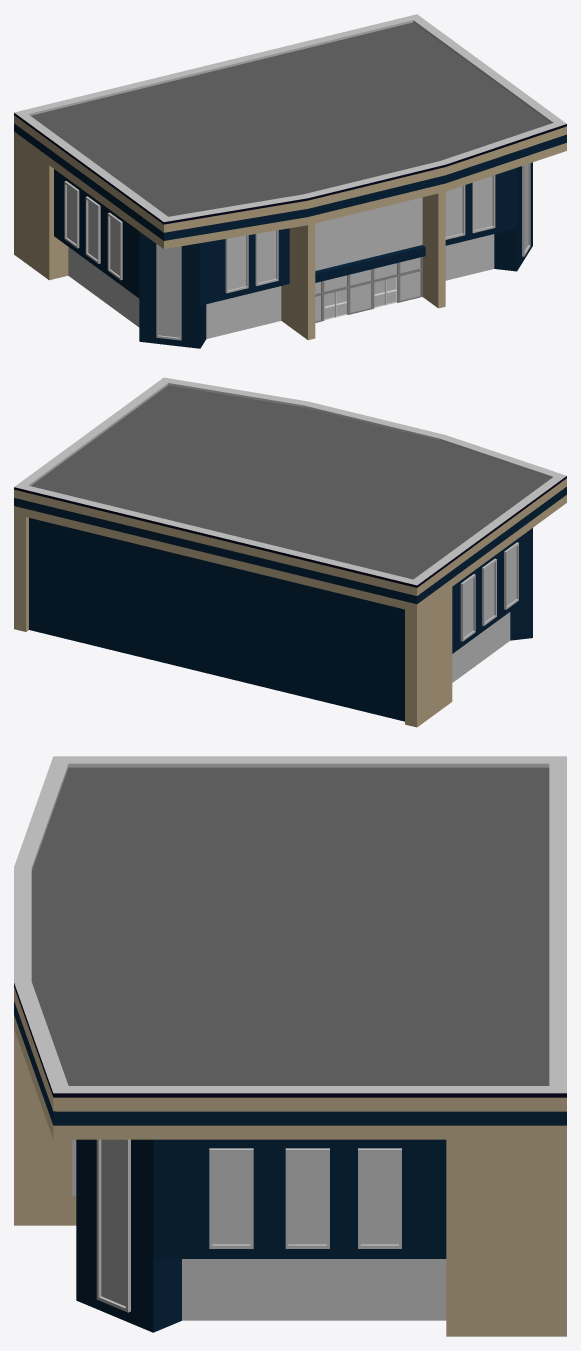
3 renders of one model, top to bottom at view 1: azimuth 30°, elevation 25°; view 2: azimuth 150°, elevation 25°; view 3: azimuth 270°, elevation 25°, orthographic. The views are drawn at different scales.
Parts seen in each view (by area): view 1: DC-06; view 2: DC-06; view 3: DC-06.
Boxes of the visible parts, x1,y1,x2,y2 form: DC-06: (14,14,566,348); DC-06: (14,377,566,727); DC-06: (14,756,566,1336).
Size of what is drawn, in the model's own units: 39.97 by 13.46 by 27.71.
